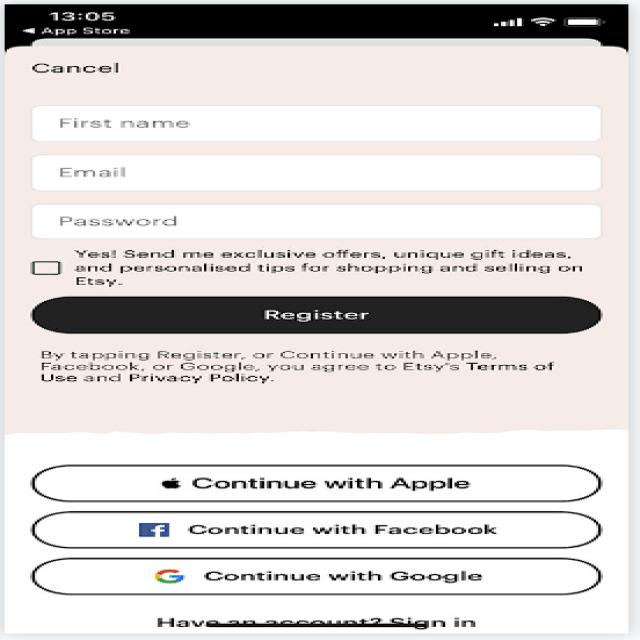button: (3, 455, 640, 508), (3, 501, 640, 553), (12, 289, 615, 340), (6, 550, 640, 597)
input: (0, 98, 640, 148), (3, 150, 640, 200), (15, 196, 640, 242)
text: (9, 240, 616, 291), (18, 339, 608, 391), (27, 52, 140, 77)
